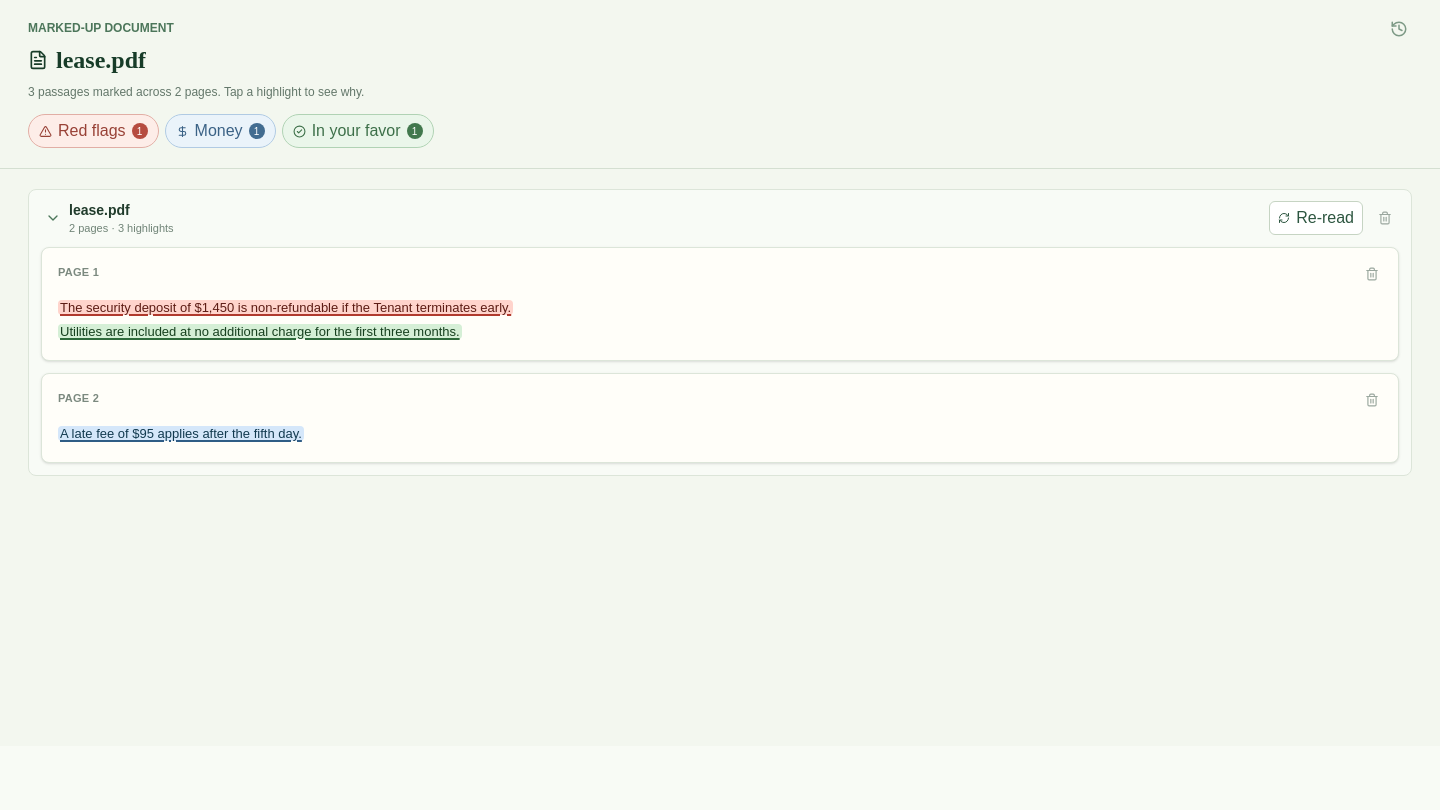
the order of the history › puts the change just made at the top
Click the button named "Delete page 2" at (1372, 400), box [1358,386,1386,414]
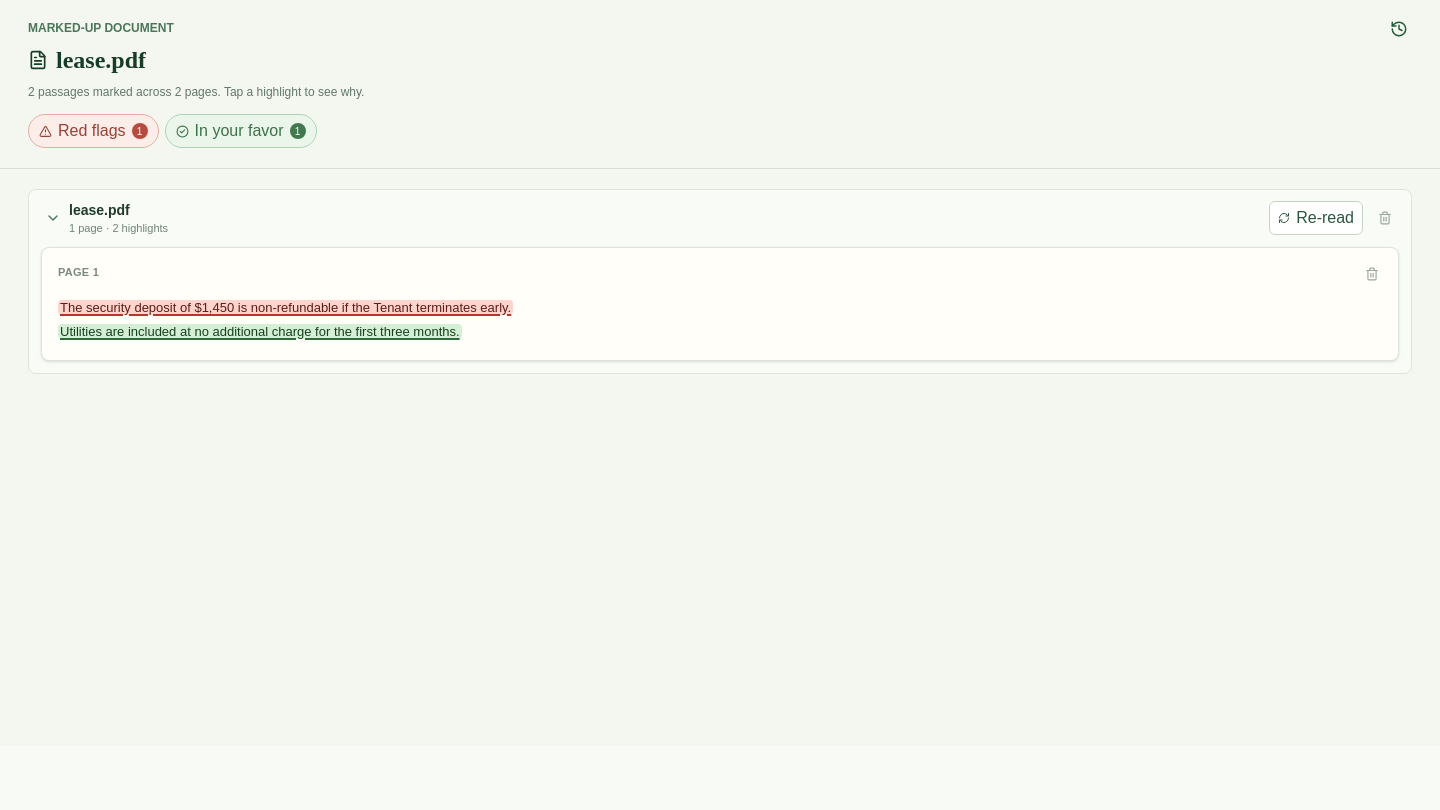
Check: the button named "History (1" is shown, box [1386,16,1412,42]
Click the button with aria-label "Red flags: Money you may not get back" at (286, 307), box [58,300,513,314]
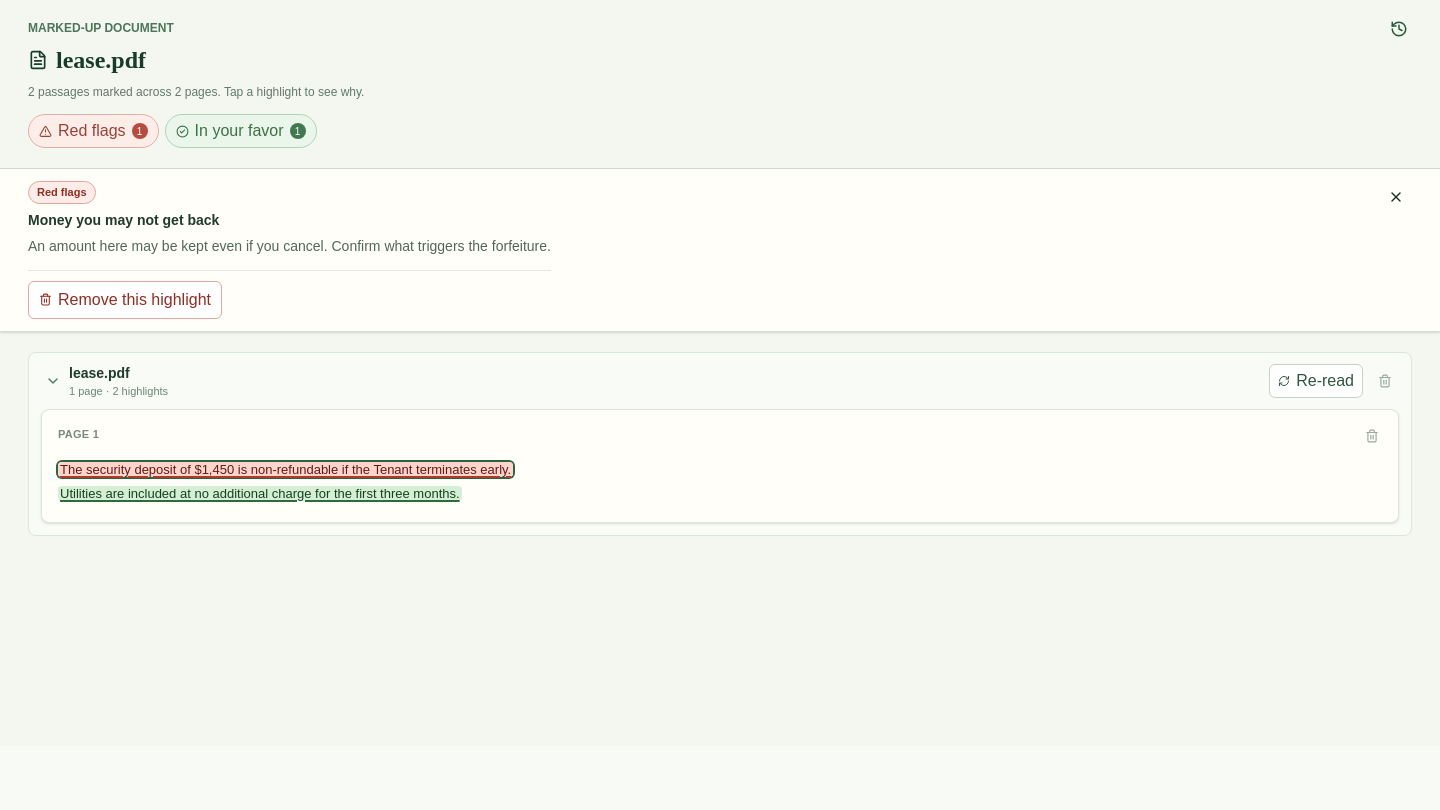
Click the button "Remove this highlight" at (125, 300), box [28,280,222,318]
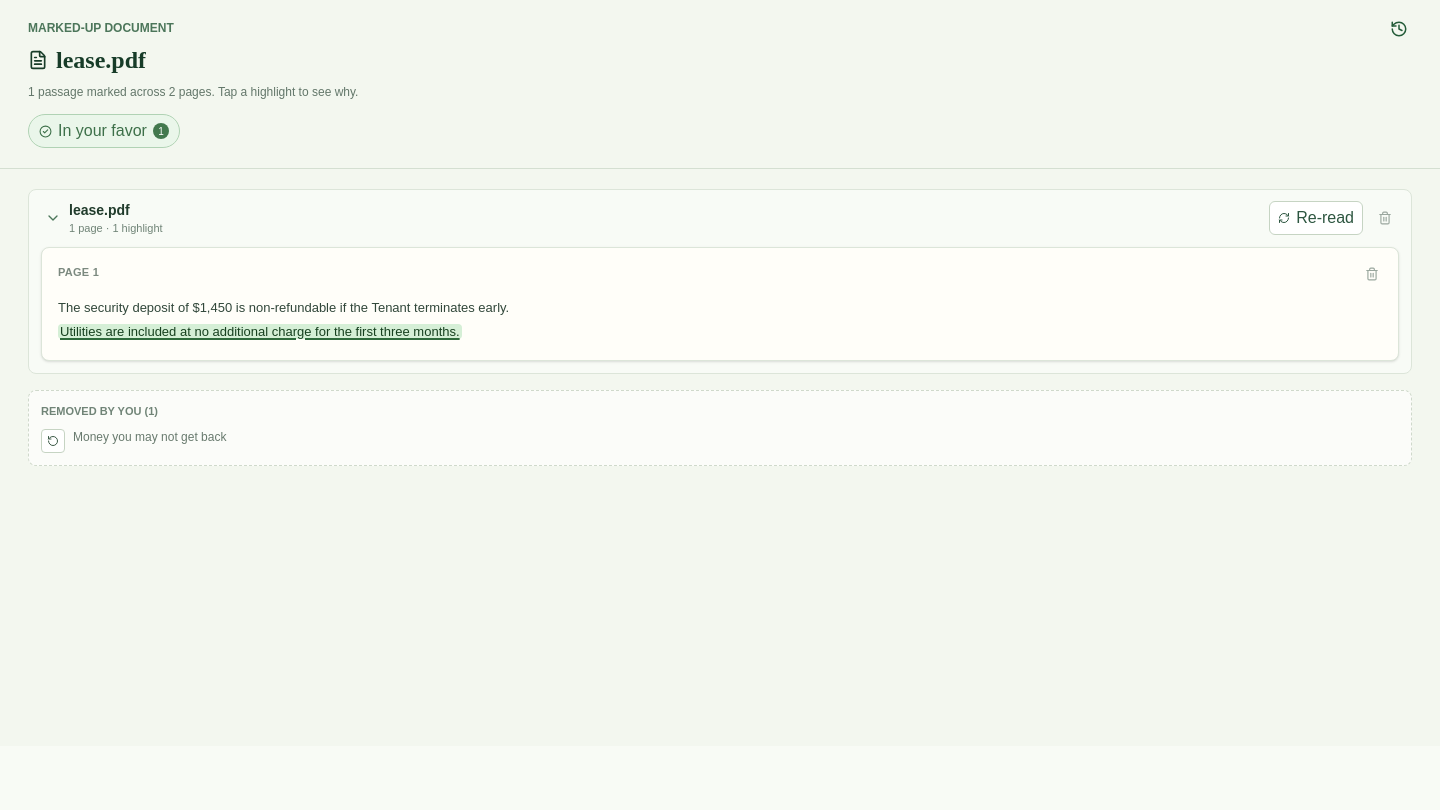
Click the button named "History" at (1399, 29), box [1386,16,1412,42]
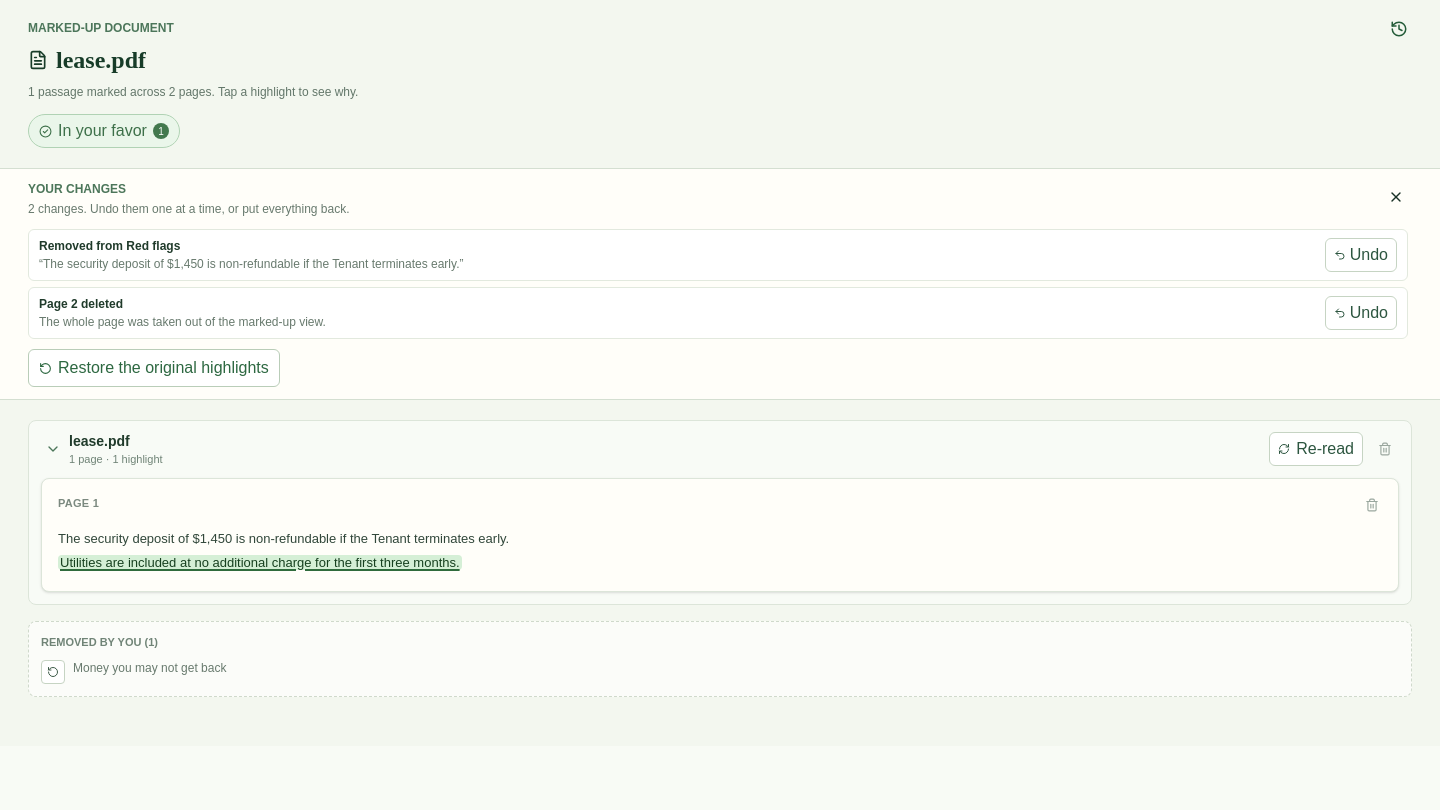
Check: the text "Removed from Red flags" is shown, box [39,239,180,253]
Check: the text "Page 2 deleted" is shown, box [39,297,123,311]
